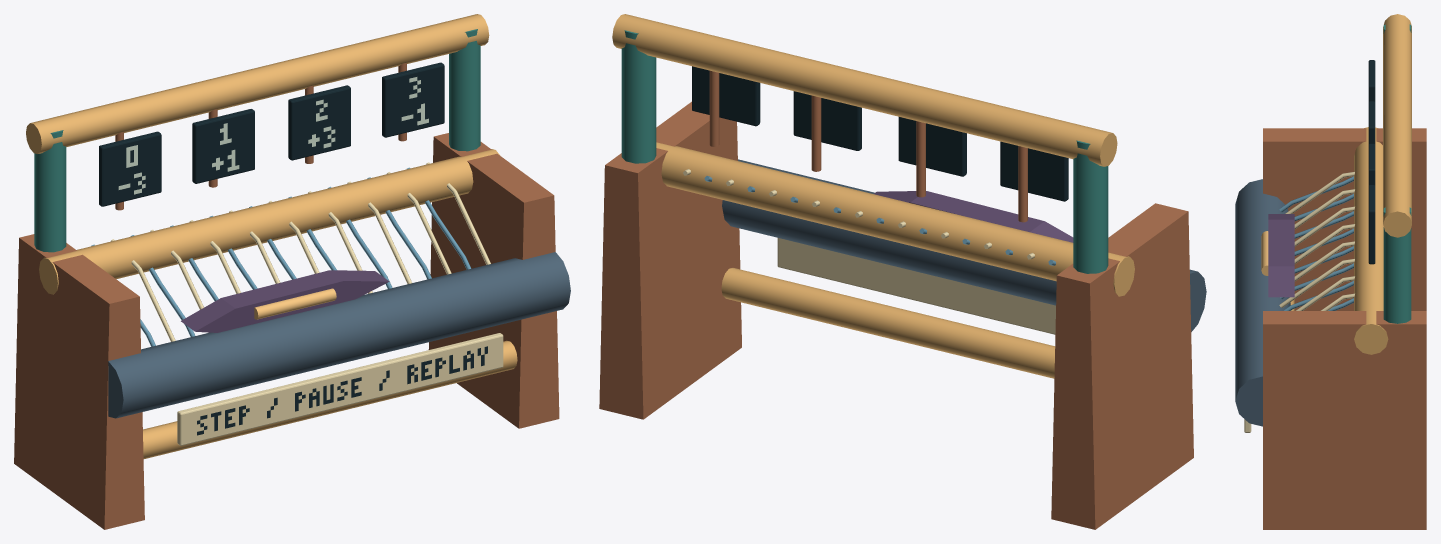
3 views of the same model, side by side, from view 1: azimuth 30°, elevation 25°; view 2: azimuth 150°, elevation 25°; view 3: azimuth 270°, elevation 25° (orthographic). The views are drawn at different scales.
Parts seen in each view (by area): view 1: PR092 enamel and hardware; view 2: PR092 enamel and hardware; view 3: PR092 enamel and hardware.
Part boxes in pixels (x1,y1,x2,y2): PR092 enamel and hardware: [14, 14, 570, 529]; PR092 enamel and hardware: [599, 14, 1206, 529]; PR092 enamel and hardware: [1235, 14, 1426, 529].
Bounding box in the file's own units: 1.7 × 1.25 × 0.684.
